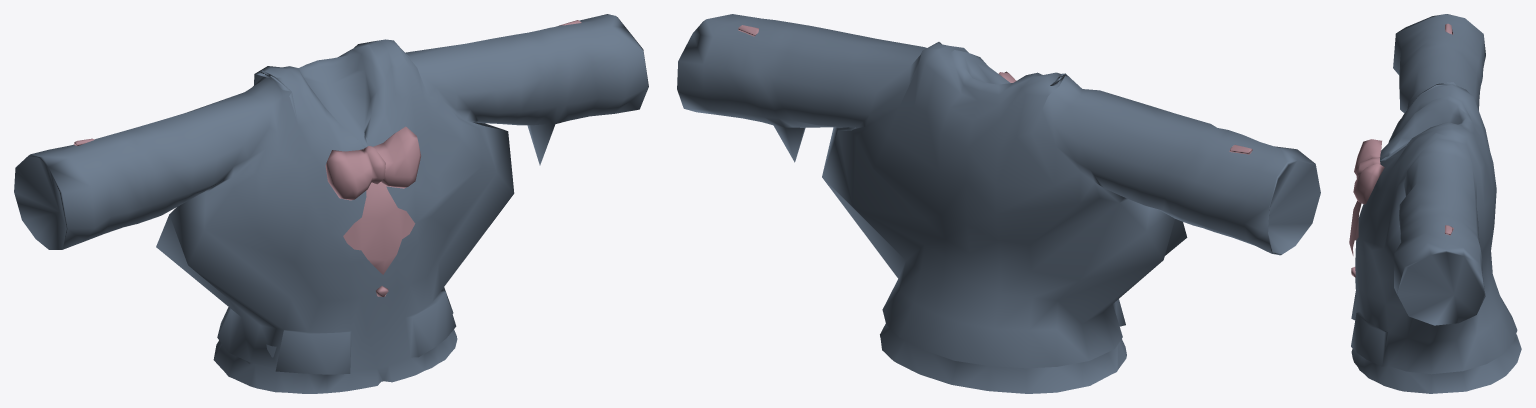
File: school-blazer-only.glb
The picture shows the model from 3 angles, left to right: view 1: azimuth 30°, elevation 25°; view 2: azimuth 150°, elevation 25°; view 3: azimuth 270°, elevation 25°; orthographic projection. The views are drawn at different scales.
Visible parts, largest first — view 1: Apparel_school-blazer_0, Apparel_school-blazer_1; view 2: Apparel_school-blazer_0; view 3: Apparel_school-blazer_0, Apparel_school-blazer_1.
Boxes of the visible parts, <box> form: Apparel_school-blazer_0: <box>14,14,648,393</box>; Apparel_school-blazer_1: <box>74,20,581,296</box>; Apparel_school-blazer_0: <box>677,14,1320,393</box>; Apparel_school-blazer_0: <box>1351,14,1521,393</box>; Apparel_school-blazer_1: <box>1349,23,1453,277</box>.
Bounding box in the file's own units: 2.74 × 1.29 × 0.8272.
